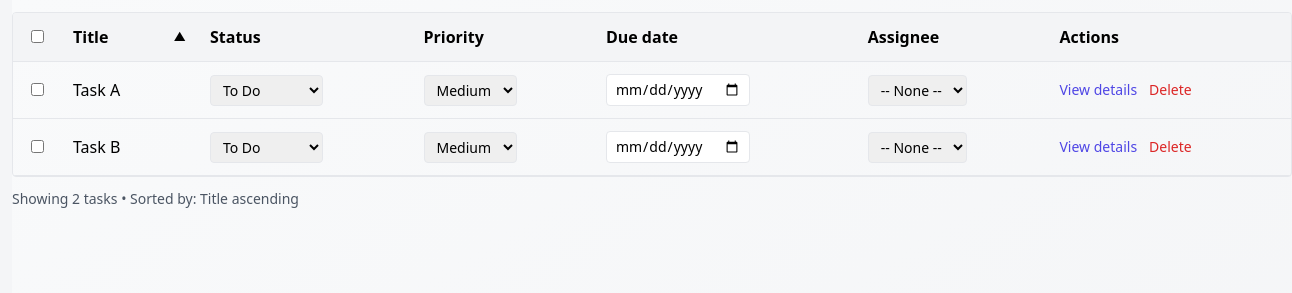
TaskTable selection safety › updates the selected count and the indeterminate state of the header checkbox
Step 1. Click the checkbox with test id "select-a" → (37,90), box [30,83,44,96]
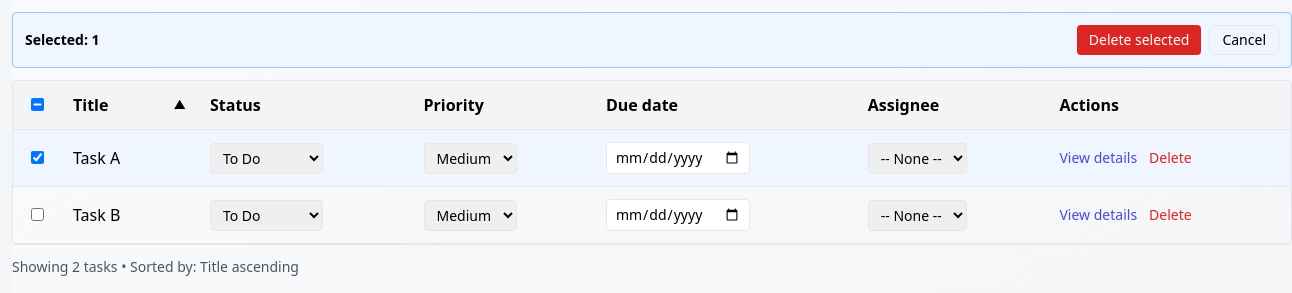
Check: the checkbox with test id "select-all-checkbox" is not checked, box [30,98,44,111]
Check: the text with test id "selected-count" reads "1", box [92,30,100,49]
Step 2. Click the checkbox with test id "select-b" → (37,214), box [30,208,44,221]
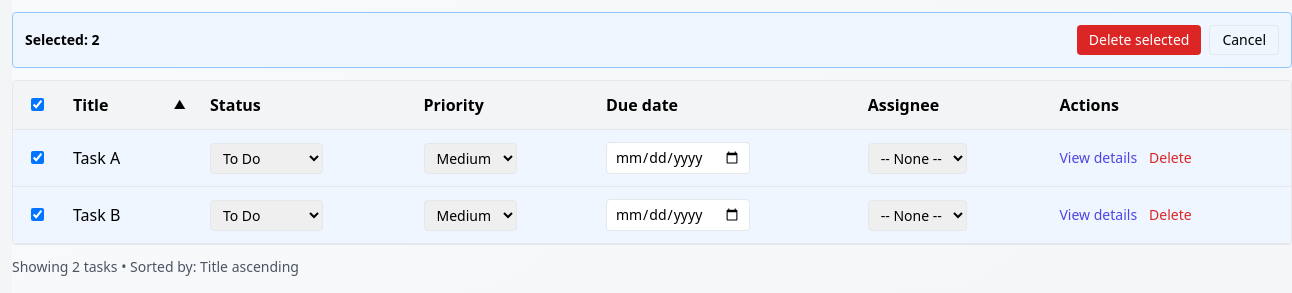
Check: the text with test id "selected-count" reads "2", box [92,30,100,49]
Check: the checkbox with test id "select-all-checkbox" is checked, box [30,98,44,111]
